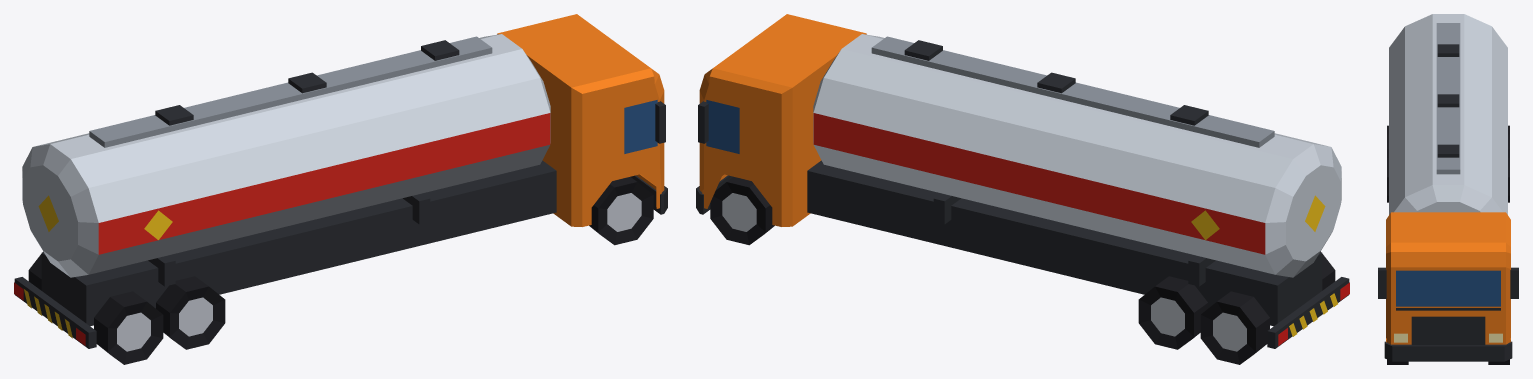
File: tanker.glb
3 views of the same model, side by side, from view 1: azimuth 30°, elevation 25°; view 2: azimuth 150°, elevation 25°; view 3: azimuth 270°, elevation 25° (orthographic). The views are drawn at different scales.
Visible parts, largest first — view 1: Body; view 2: Body; view 3: Body.
Part boxes in pixels (x1=…): Body: x1=14, y1=14, x2=667, y2=364; Body: x1=696, y1=14, x2=1349, y2=364; Body: x1=1378, y1=14, x2=1518, y2=364.
Bounding box in the file's own units: 1.05 × 0.347 × 0.284.
